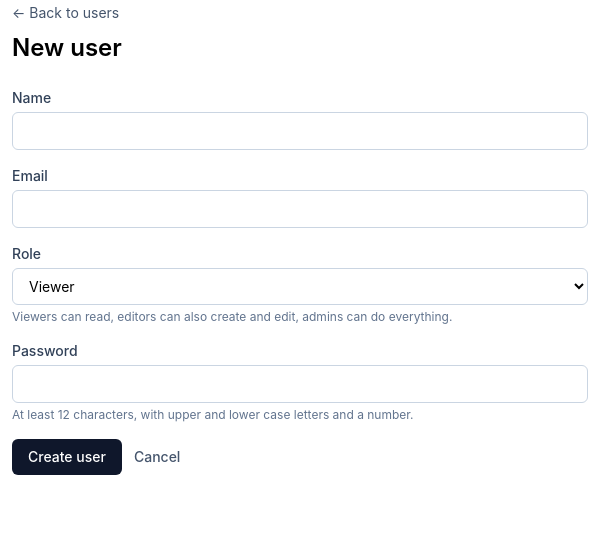
Test: UserFormView › shows a general error when the request fails for another reason
Type "New Person" into the field with id "name" at (300, 131), box left=12, top=112, right=588, bottom=150
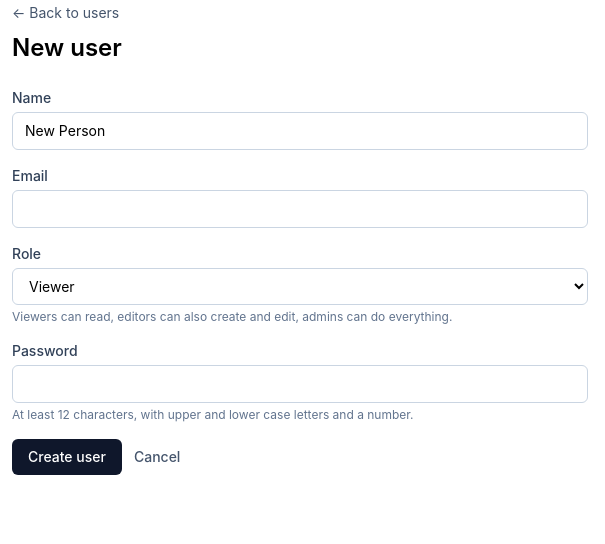
Type "new@example.com" into the field with id "email" at (300, 209), box left=12, top=190, right=588, bottom=228
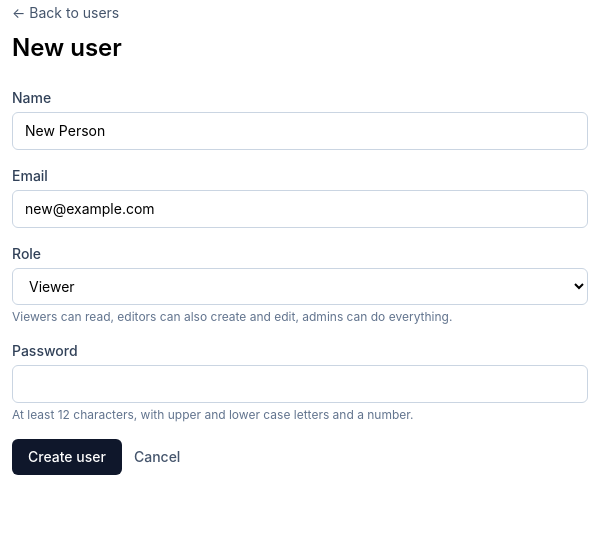
Type "Correct-Horse-9" into the password field labelled "Password" at (300, 384), box left=12, top=365, right=588, bottom=403
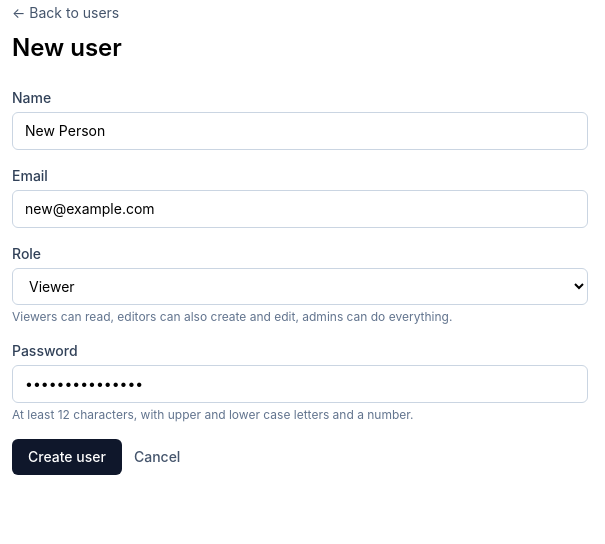
Submit the form
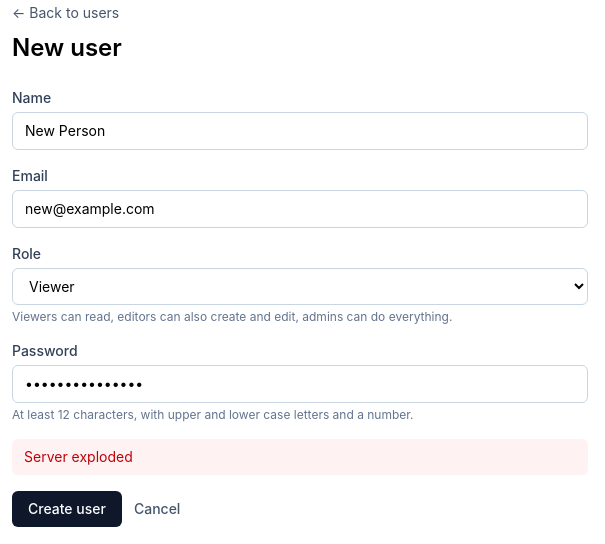
Expected: the message "Server exploded" is shown, left=12, top=439, right=588, bottom=475
